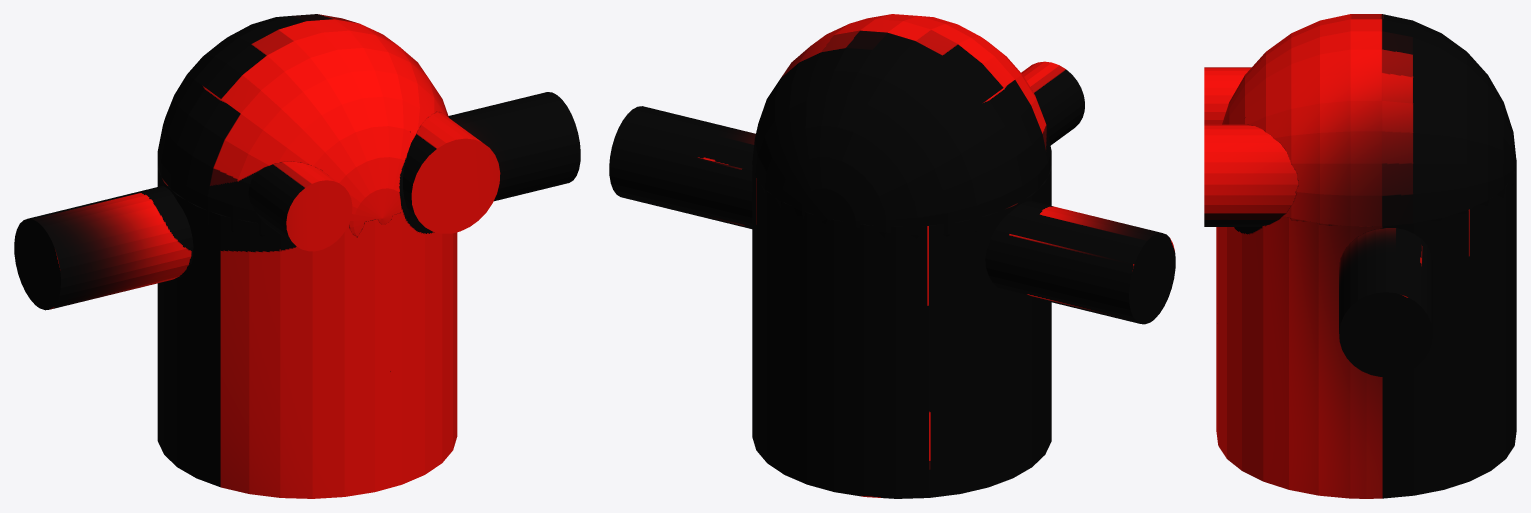
The picture shows the model from 3 angles, left to right: view 1: azimuth 30°, elevation 25°; view 2: azimuth 150°, elevation 25°; view 3: azimuth 270°, elevation 25°; orthographic projection.
Parts seen in each view (by area): view 1: Gumdrop; view 2: Gumdrop; view 3: Gumdrop.
Part boxes in pixels (left/top/right/bottom): Gumdrop: left=14, top=14, right=580, bottom=498; Gumdrop: left=609, top=14, right=1175, bottom=498; Gumdrop: left=1204, top=14, right=1516, bottom=498.
Bounding box in the file's own units: 2 × 1.04 × 1.5.
Materials: 1 (1 with a texture image).
